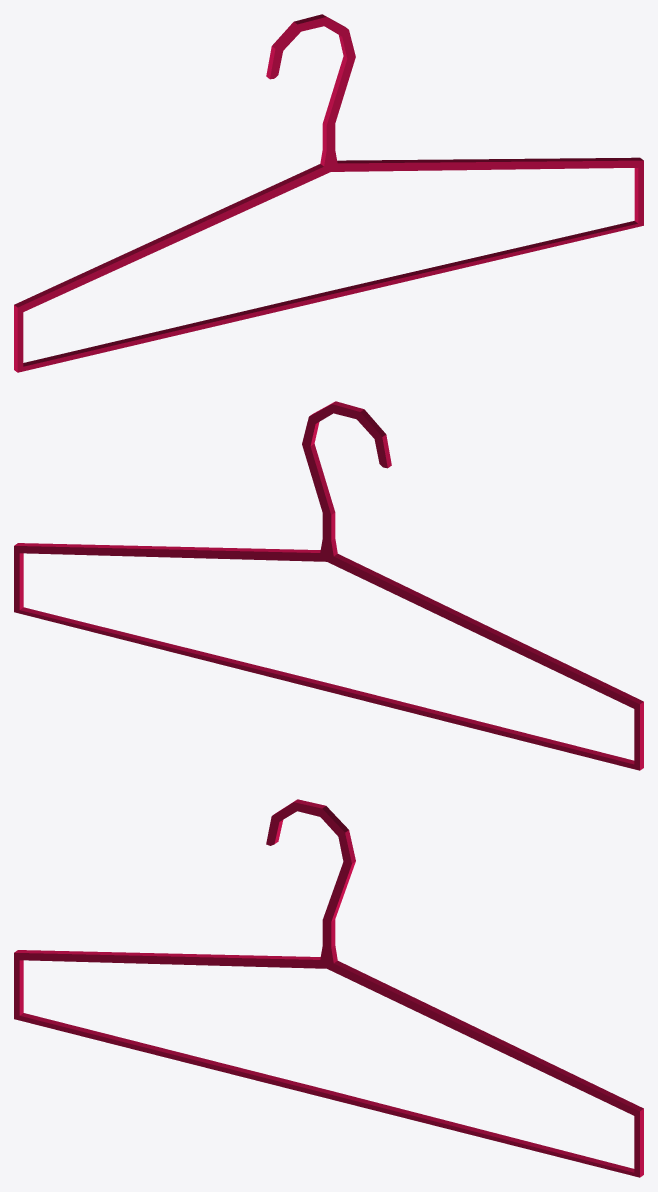
Rendered from Clothes Hanger 3.fbx.
The picture shows the model from 3 angles, top to bottom: view 1: azimuth 30°, elevation 25°; view 2: azimuth 150°, elevation 25°; view 3: azimuth 330°, elevation 25°; orthographic projection.
Parts seen in each view (by area): view 1: Clothes Hanger 3; view 2: Clothes Hanger 3; view 3: Clothes Hanger 3.
Part boxes in pixels (x1,y1,x2,y2): Clothes Hanger 3: (14, 14, 643, 372); Clothes Hanger 3: (14, 401, 643, 770); Clothes Hanger 3: (14, 799, 643, 1177).
Size of the model in its own units: 0.0184 by 0.2961 by 0.6786.
